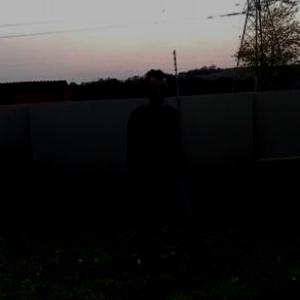follow: (115, 69, 182, 274)
